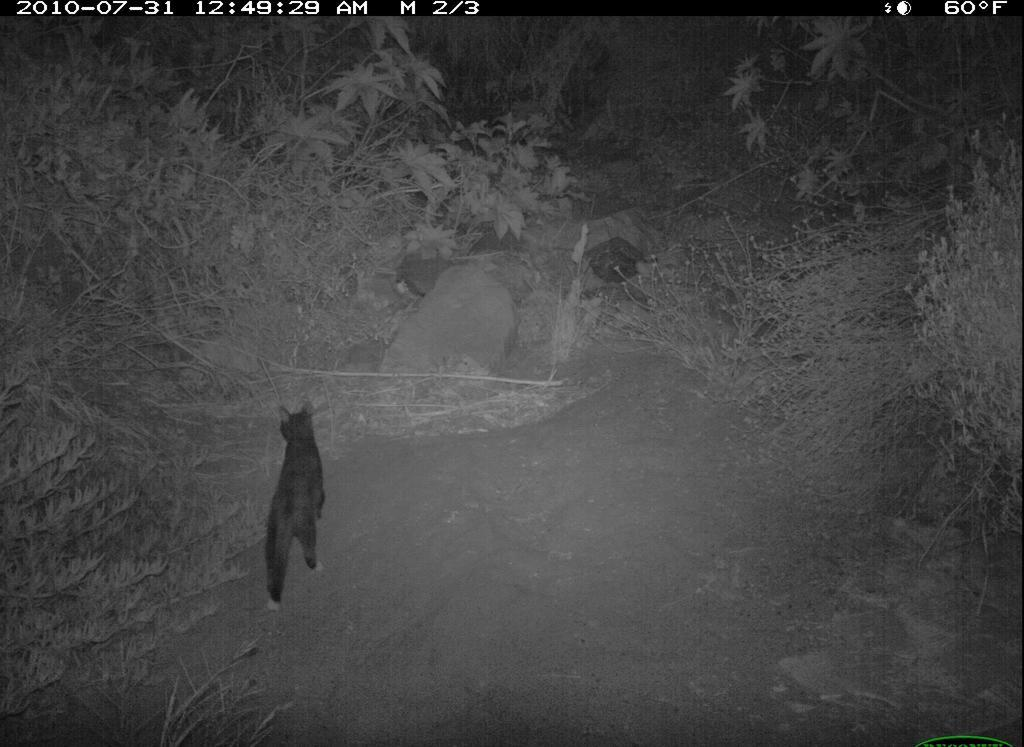cat: (254, 395, 347, 619)
